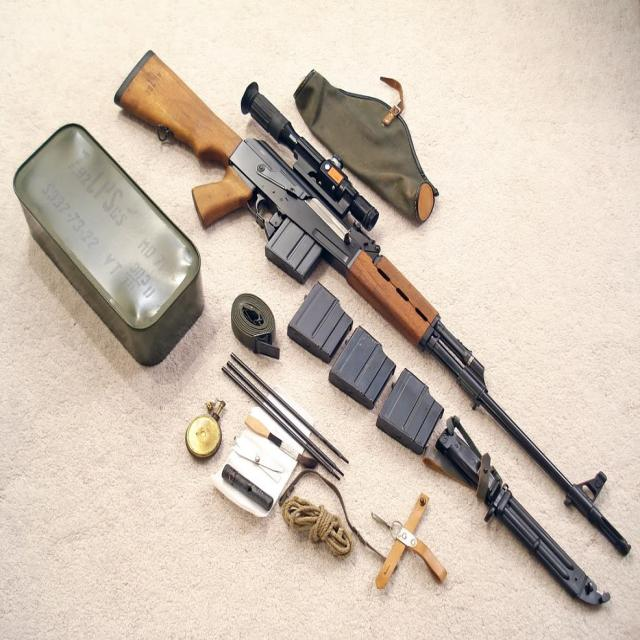firearm: (114, 47, 632, 559)
knife: (438, 428, 605, 612)
